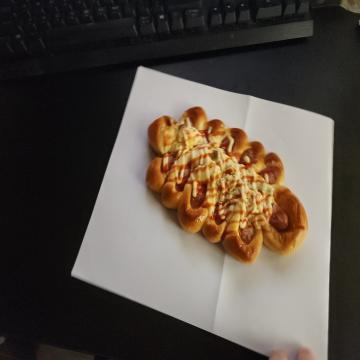pizza_bread: (148, 106, 308, 266)
